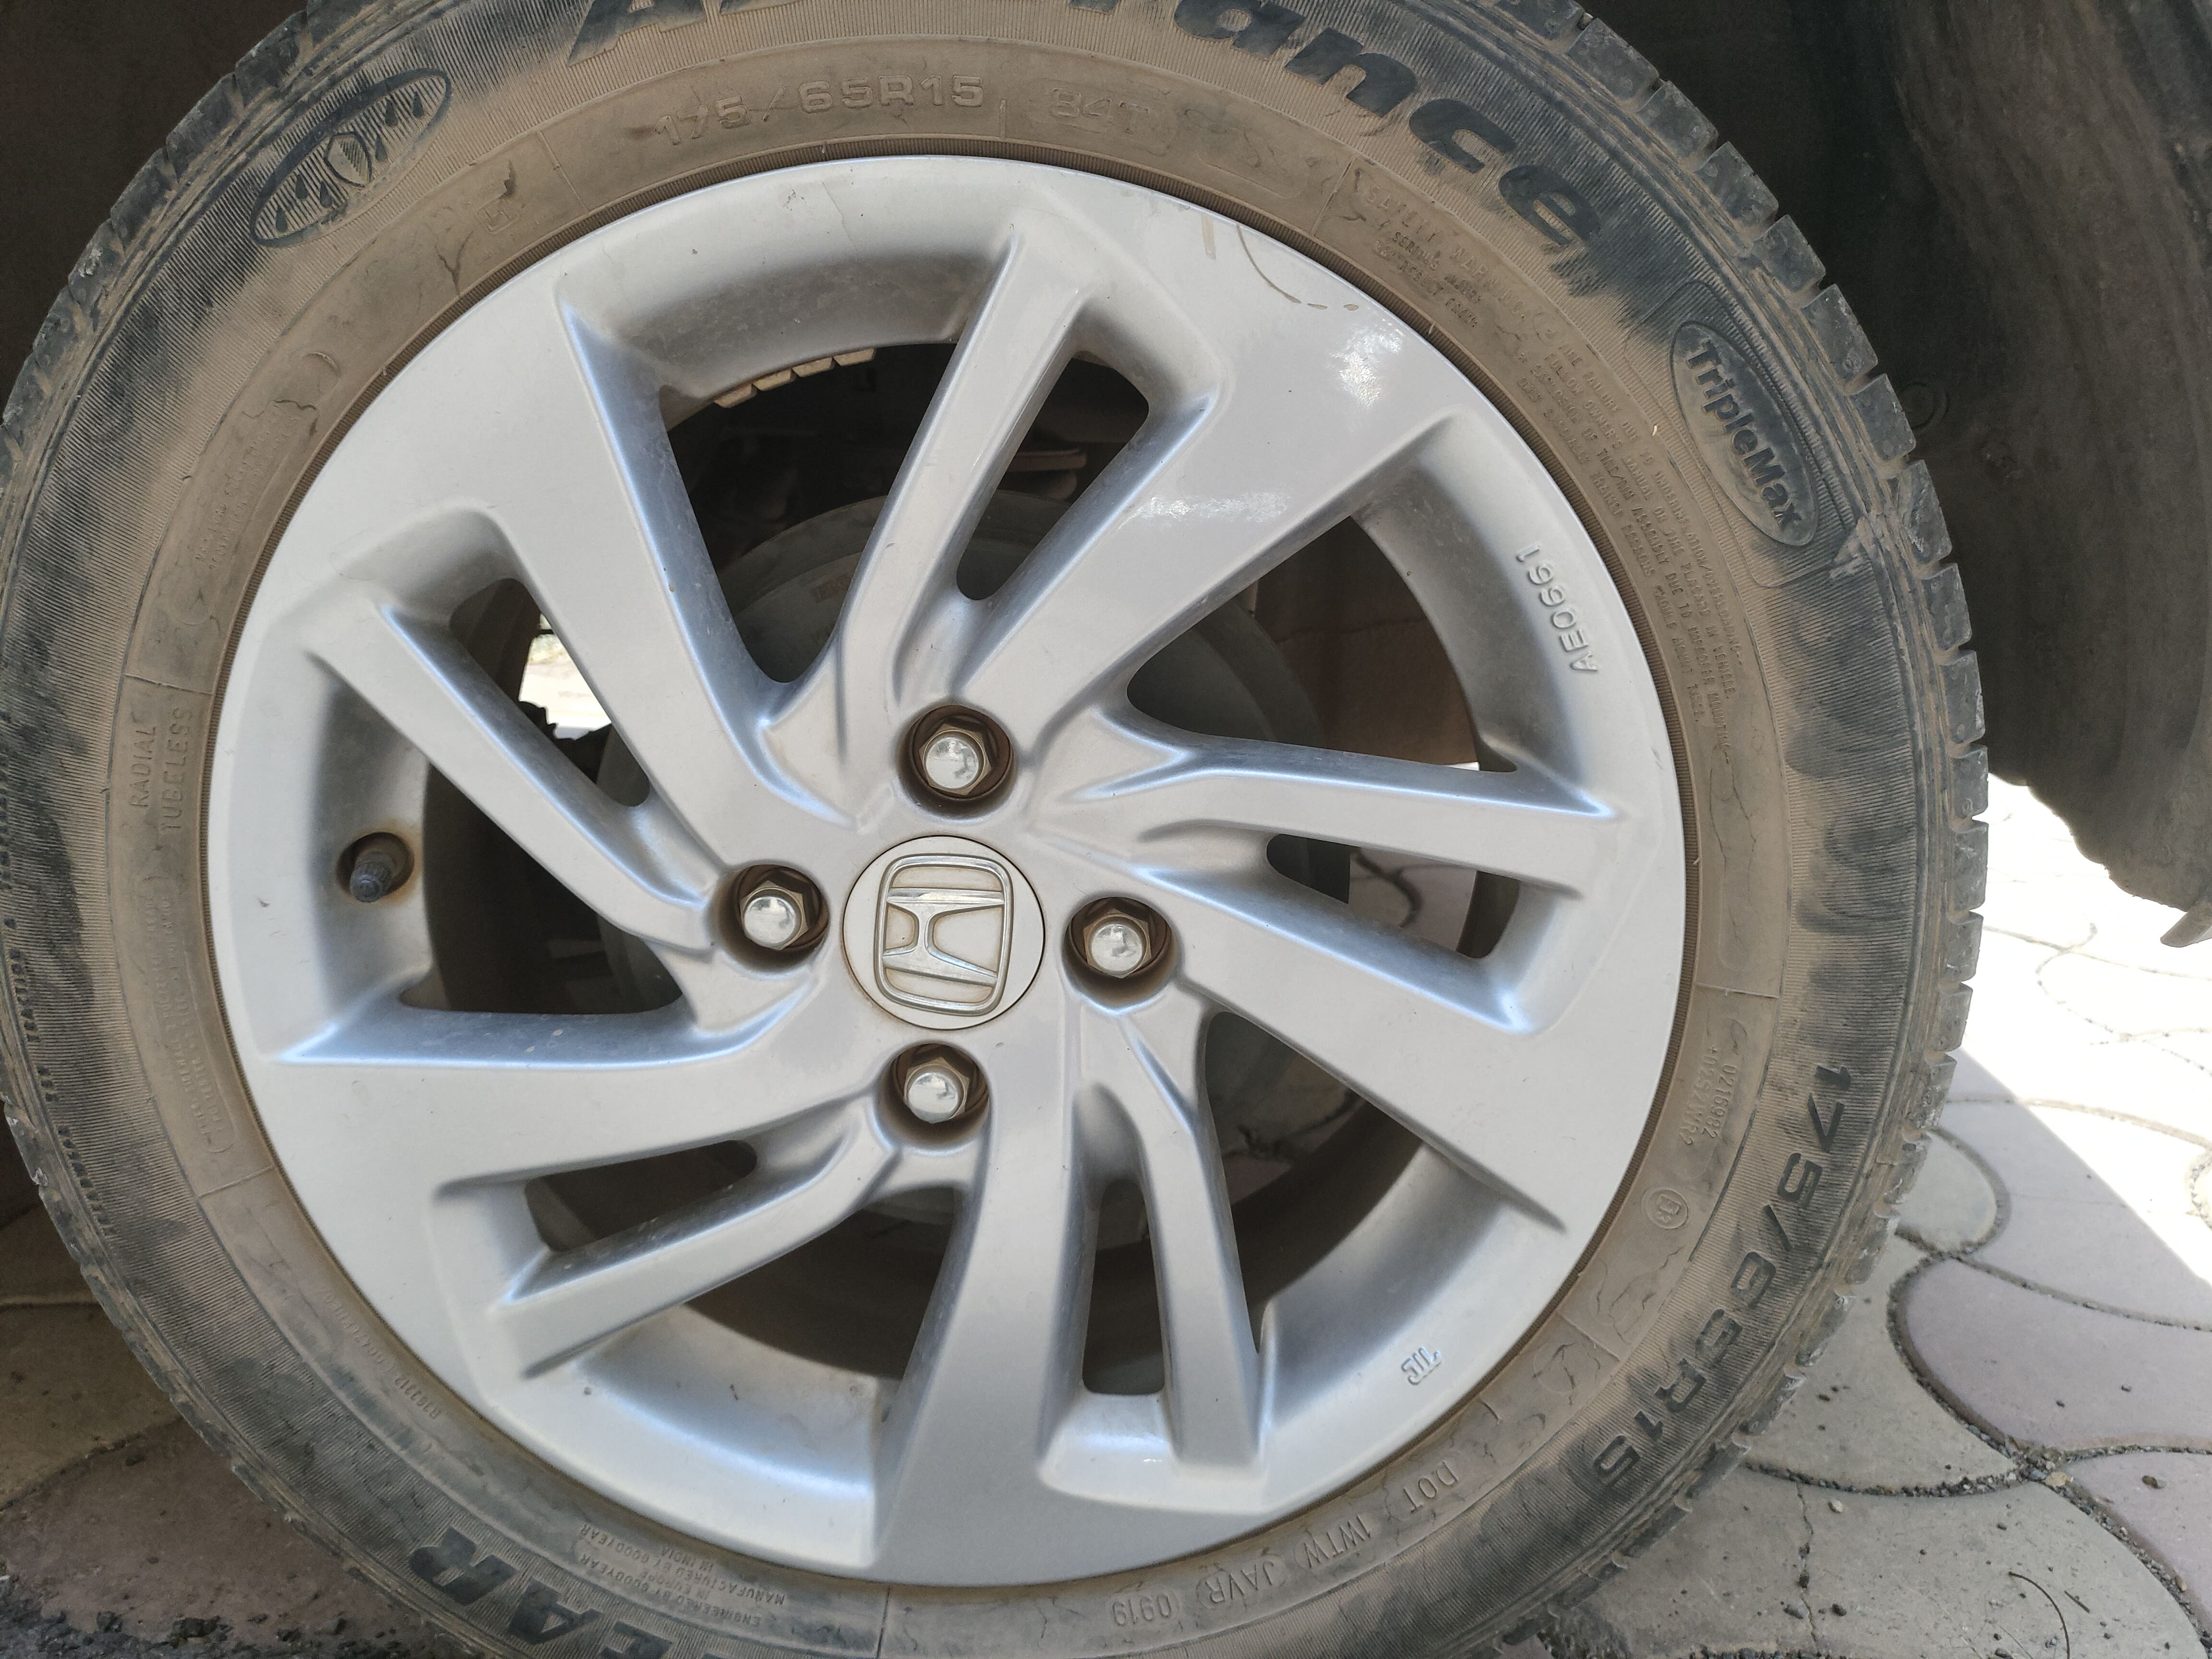l: (1033, 884, 1198, 1028), (885, 659, 1010, 828), (702, 847, 831, 995), (867, 1007, 986, 1166)
